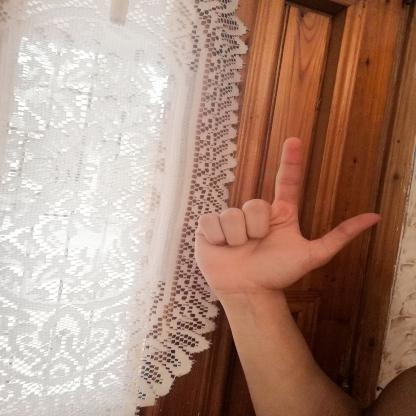LAAM: (175, 127, 395, 304)
